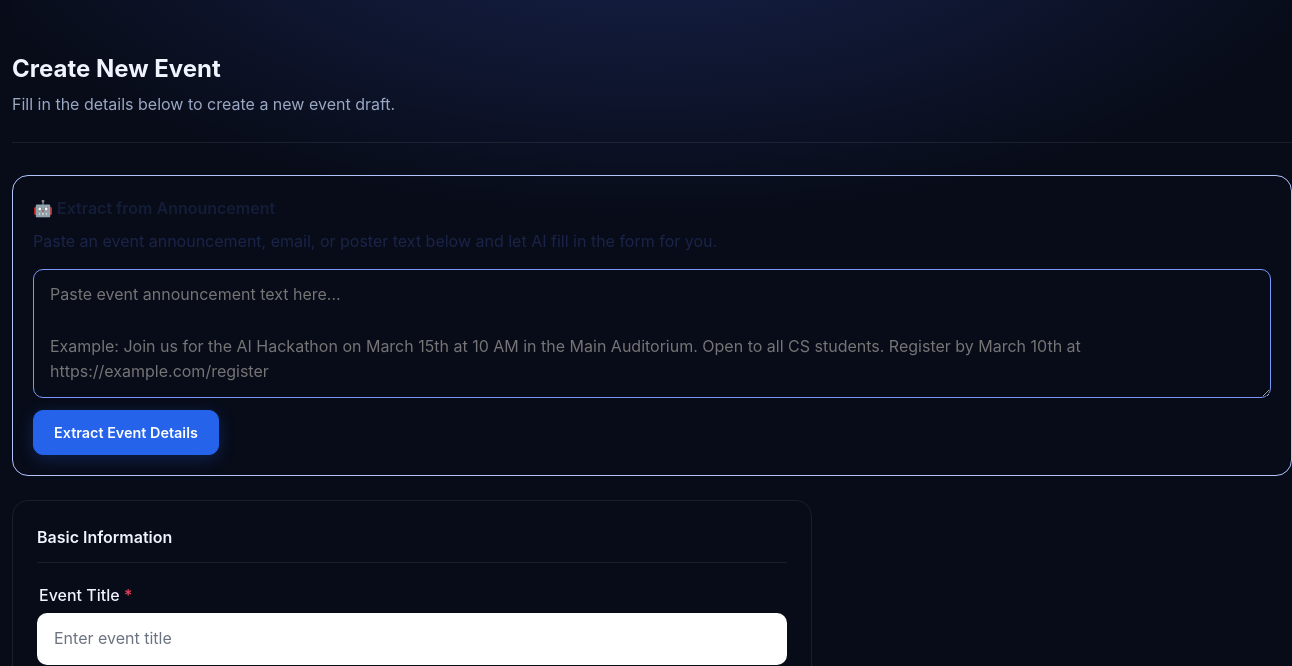
Test case: CreateEventPage AI extraction description mapping › A provider response using details is normalized to description
Replace the text in the text box with placeholder "Paste event announcement text" with "Some announcement text" at (652, 334), box [33,269,1271,398]
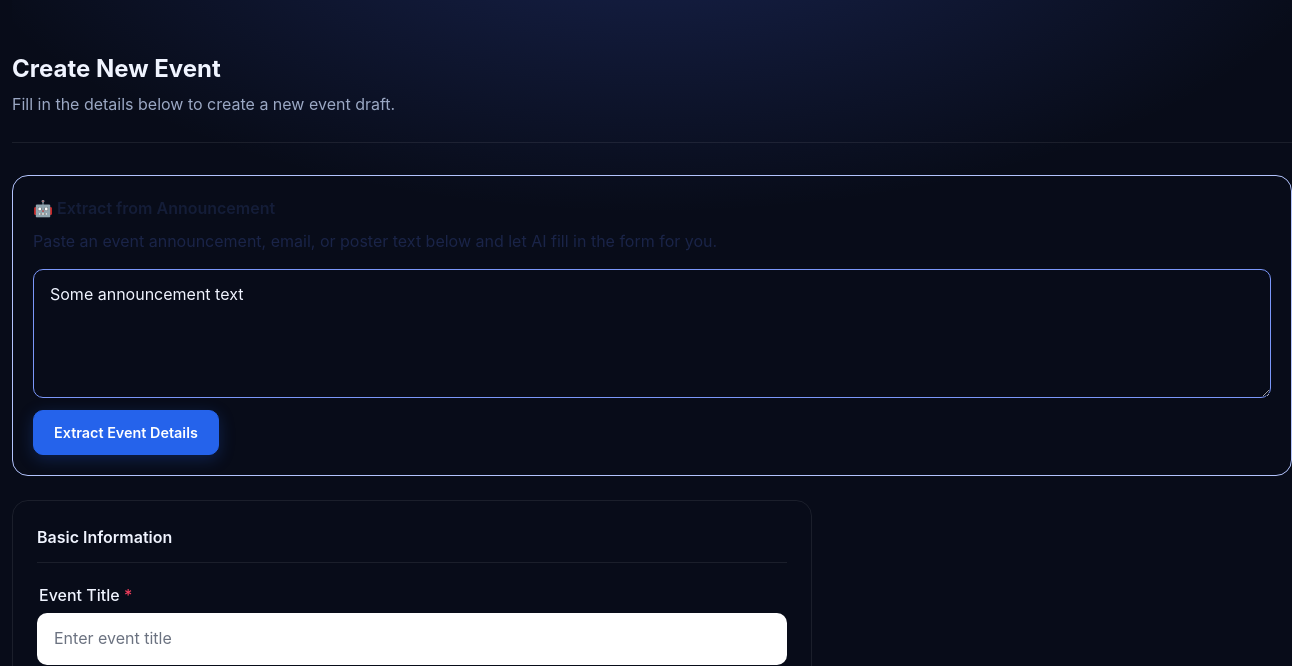
Click the button "Extract Event Details" at (126, 432), box [33,410,219,455]
(page scrolled)
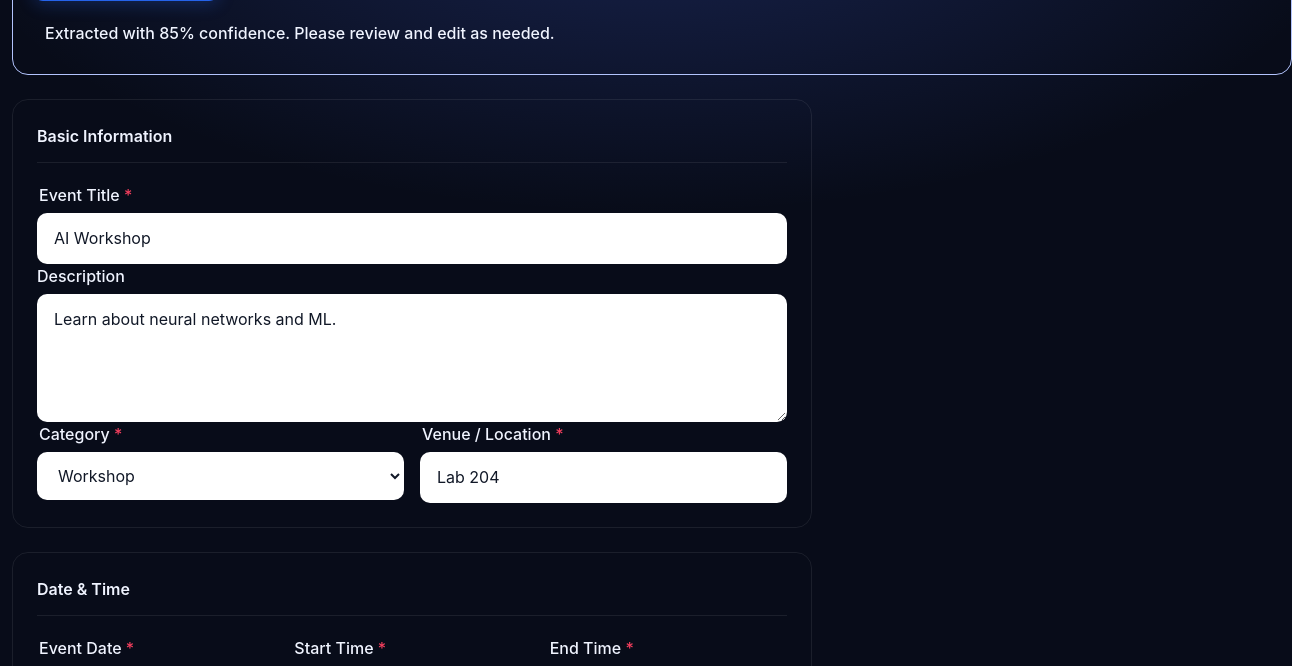
Check: the text box labelled "Description" holds "Learn about neural networks and ML.", box [37,294,787,422]
